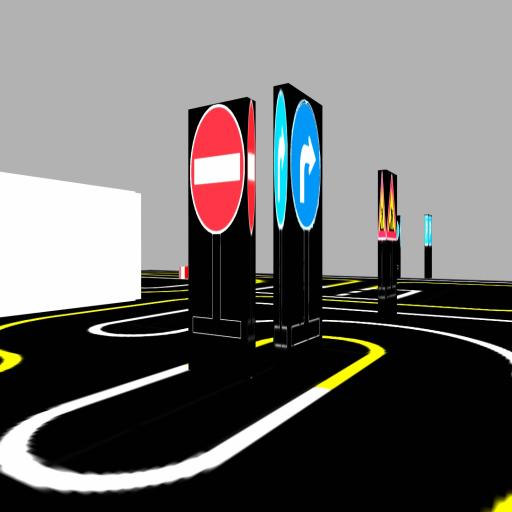Do Not Enter: (191, 105, 245, 233), (247, 101, 255, 235)
Right Turn: (291, 100, 321, 230), (274, 90, 288, 229)
